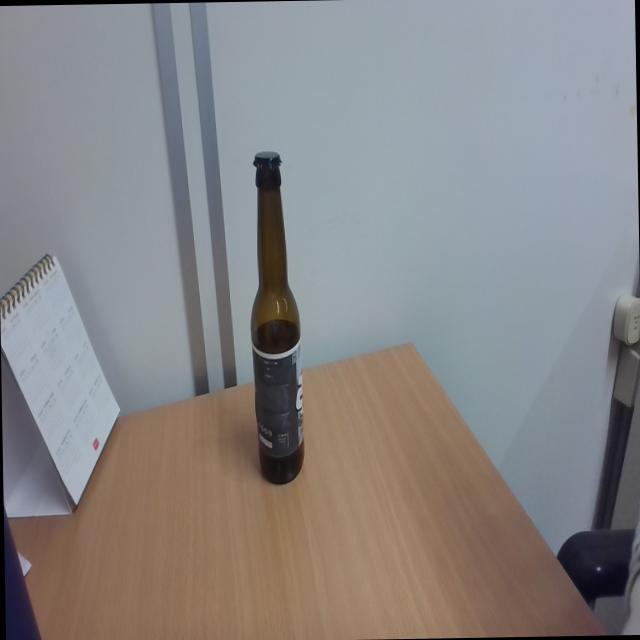Bottle: (247, 150, 306, 488)
Cap: (250, 149, 284, 170)
Label: (252, 345, 304, 452)
